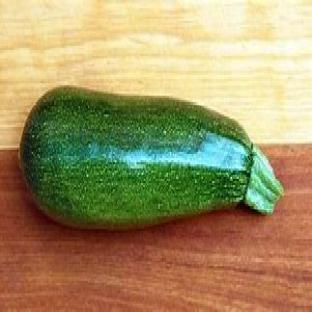Zucchini: (20, 88, 283, 228)
